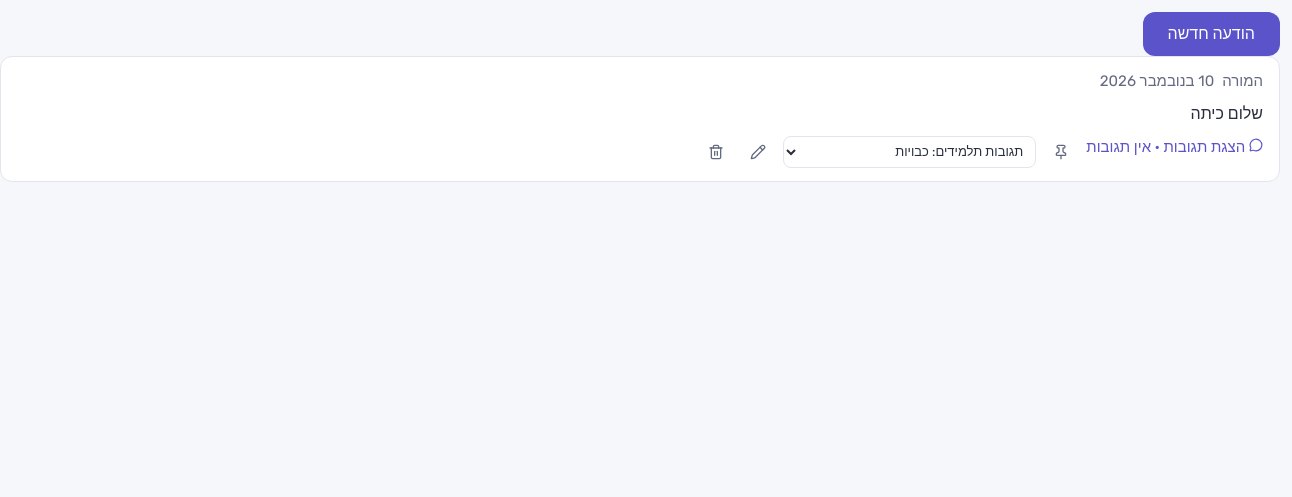
Test: ClassBoard - teacher view › server-side link refusal is explained
Click the button "הודעה חדשה" at (1211, 34), box [1142,12,1280,56]
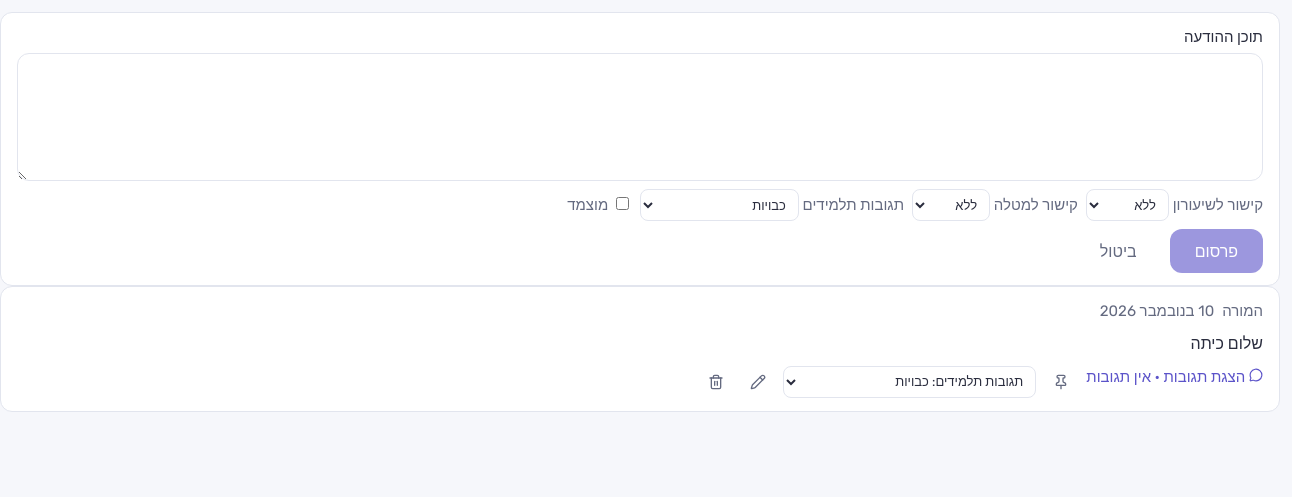
Type "x" into the text box labelled "תוכן ההודעה" at (640, 117), box [17,53,1263,181]
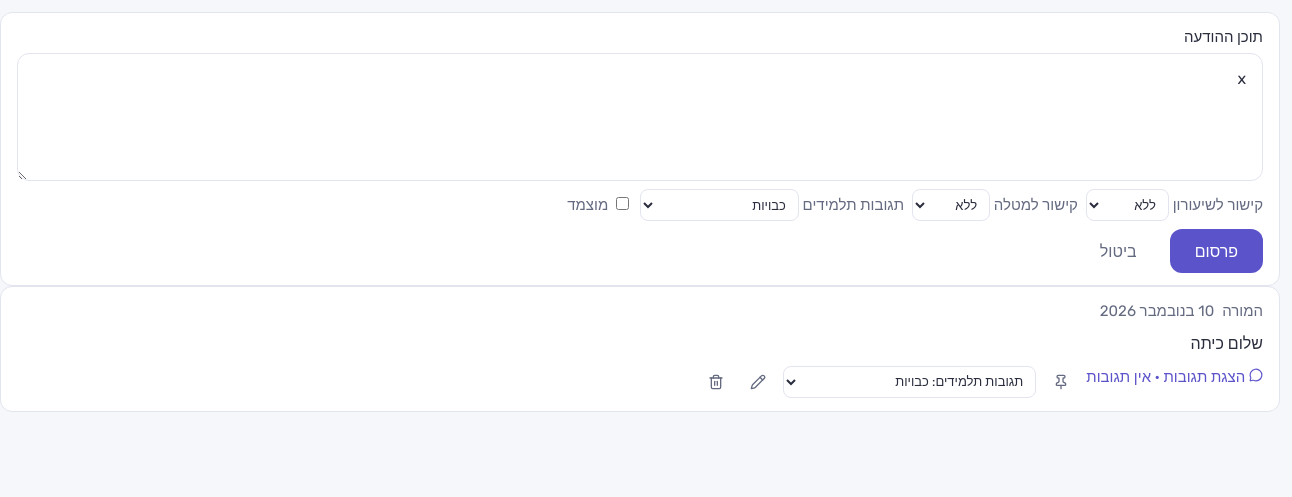
Click the button "פרסום" at (1216, 251), box [1170,229,1263,273]
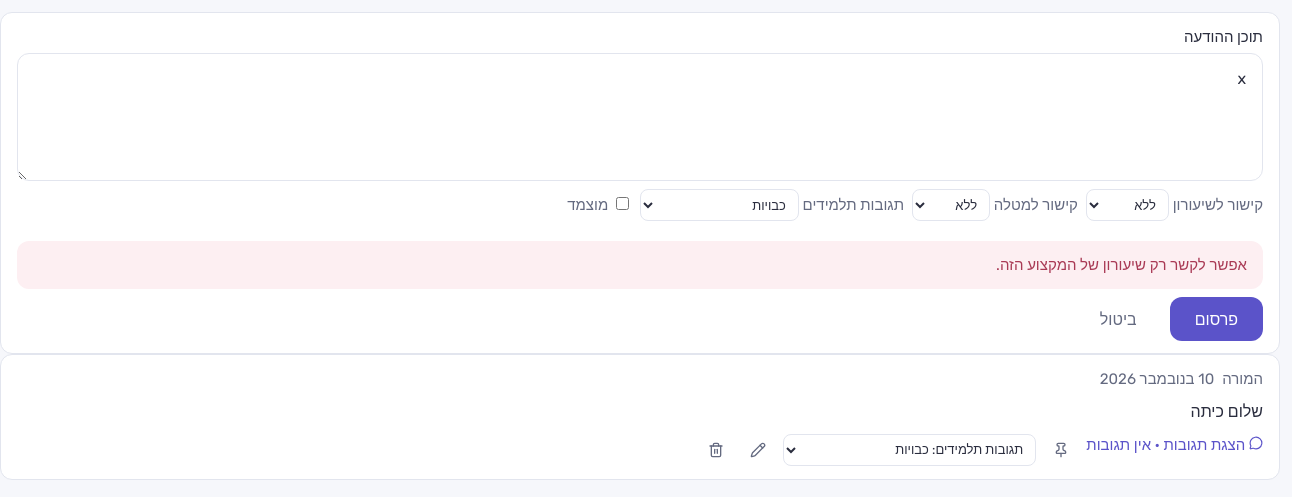
Expected: the text "אפשר לקשר רק שיעורון של המקצוע הזה." is shown, [17,241,1263,289]
